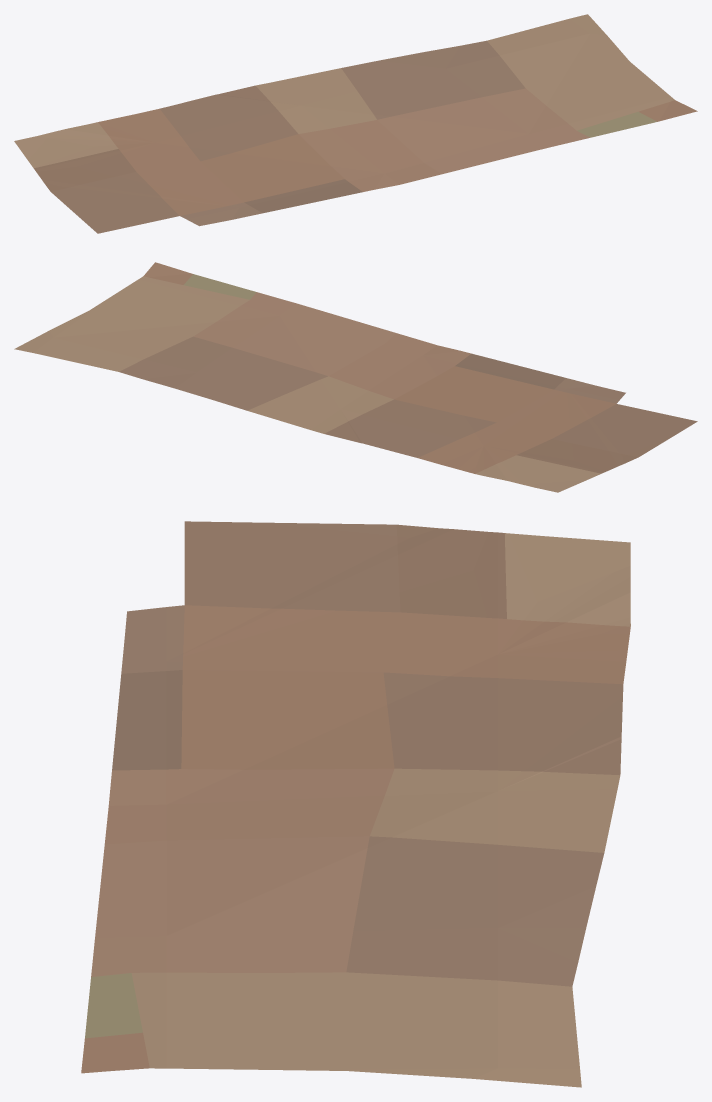
The model's file is farm_15_17_soil.glb.
3 views of the same model, one above another, from view 1: azimuth 30°, elevation 25°; view 2: azimuth 150°, elevation 25°; view 3: azimuth 270°, elevation 25° (orthographic). The views are drawn at different scales.
Parts seen in each view (by area): view 1: geometry_0; view 2: geometry_0; view 3: geometry_0.
Boxes of the visible parts, box(x1,y1,x2,y2) form: geometry_0: box(14, 14, 697, 233); geometry_0: box(14, 262, 697, 492); geometry_0: box(81, 521, 630, 1087).
Bounding box in the file's own units: 326 × 4.96 × 133.
